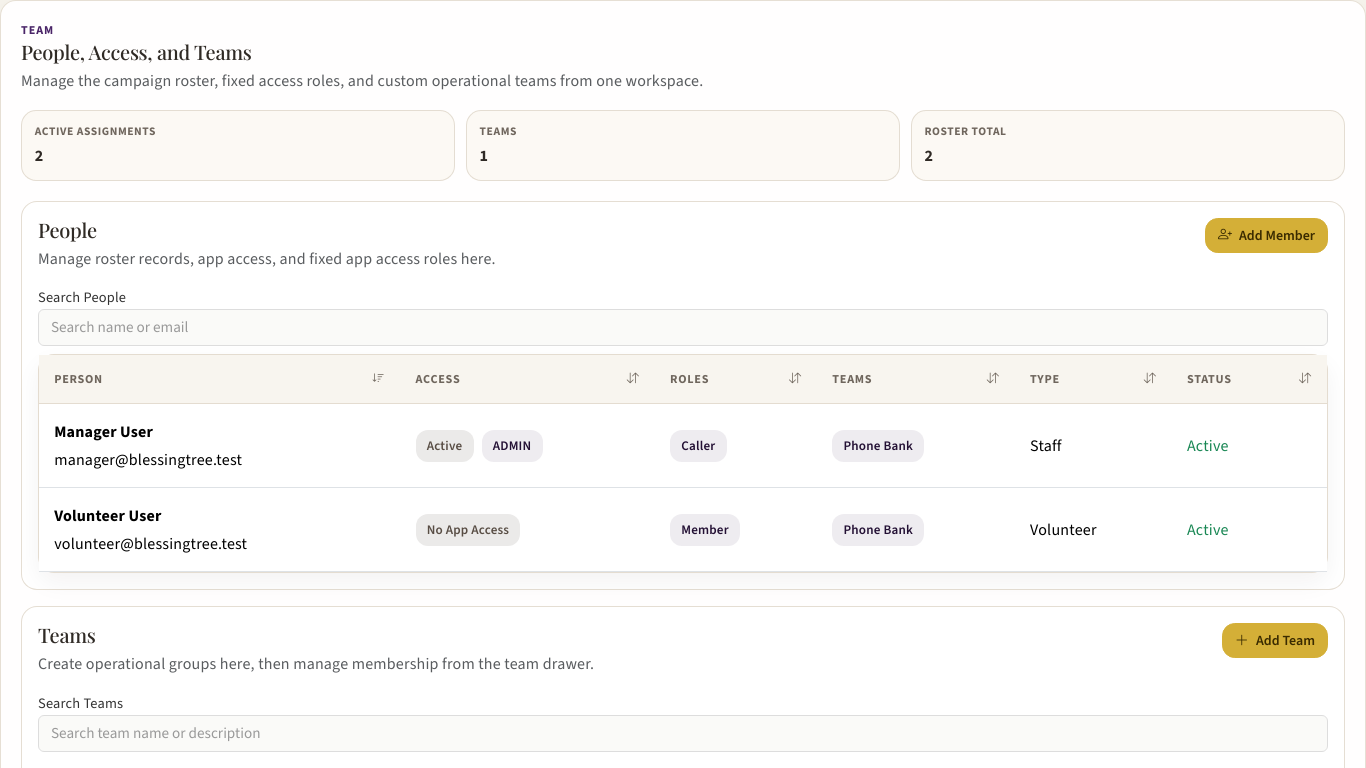
it: CampaignStudioTeamSection › renders the member table and opens the person drawer from a row click
expect the heading "People, Access, and Teams" is shown: met, box [21,38,252,65]
expect the text "Volunteer User" is shown: met, box [54,505,162,526]
Click the button "Volunteer User" at (683, 530), box [39,488,1327,572]
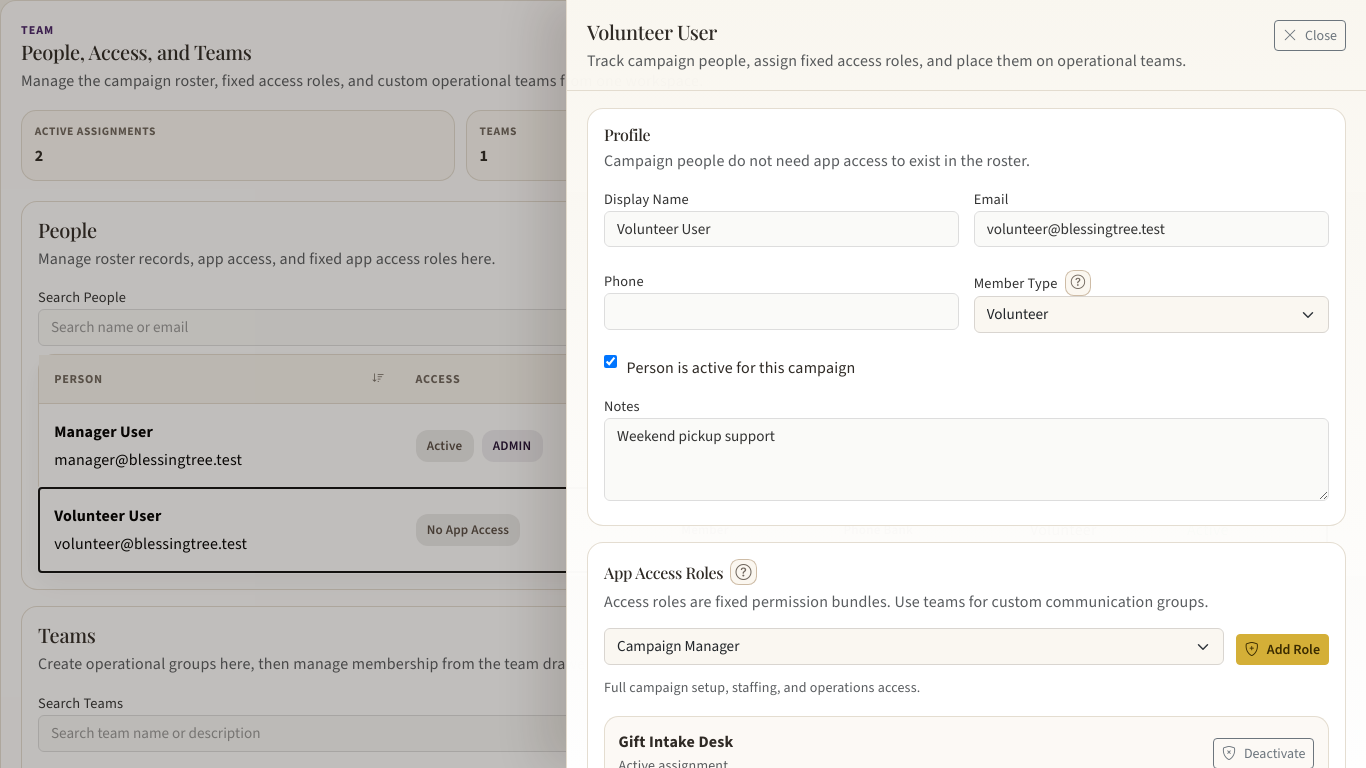
expect the dialog is shown: met, box [566,0,1365,767]
expect the text "Track campaign people" is shown: met, box [587,50,1186,71]
expect the field showing "Volunteer User" is shown: met, box [604,211,959,247]
